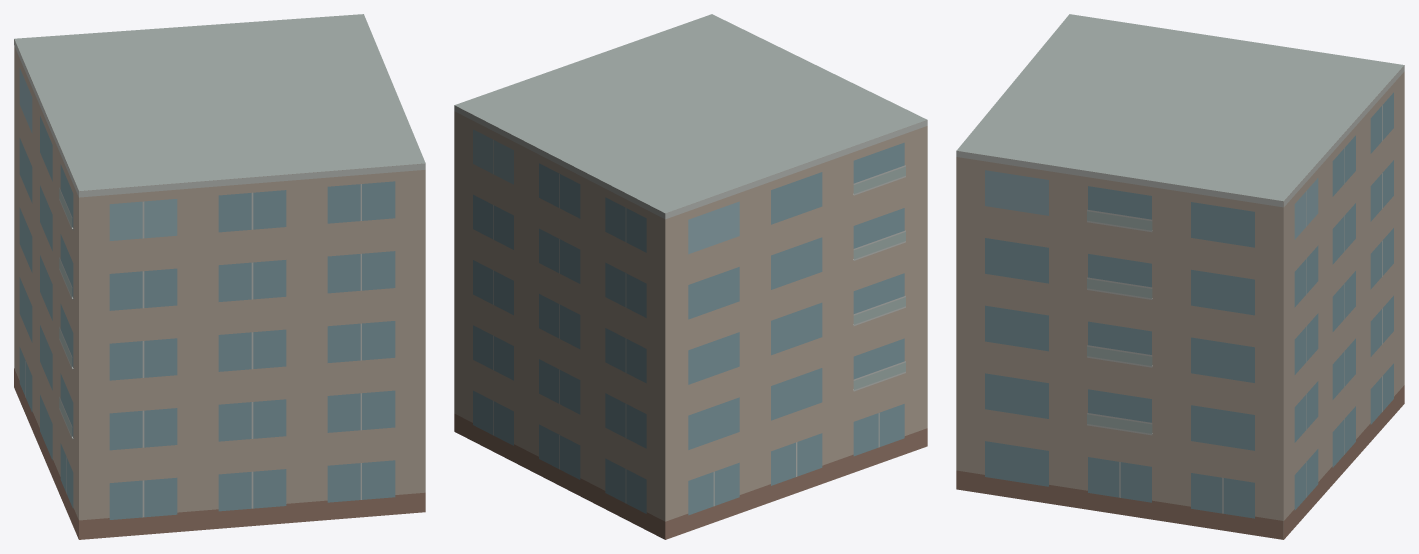
The model's file is survey-upis-32891015.glb.
3 renders of one model, left to right at view 1: azimuth 30°, elevation 25°; view 2: azimuth 150°, elevation 25°; view 3: azimuth 270°, elevation 25°, orthographic. The views are drawn at different scales.
Parts seen in each view (by area): view 1: survey-upis-32891015.tmp; view 2: survey-upis-32891015.tmp; view 3: survey-upis-32891015.tmp.
Part boxes in pixels (x1,y1,x2,y2): survey-upis-32891015.tmp: (14,14,425,539); survey-upis-32891015.tmp: (454,14,927,539); survey-upis-32891015.tmp: (956,14,1404,539).
Size of the model in its own units: 15.84 by 13.35 by 16.02.
